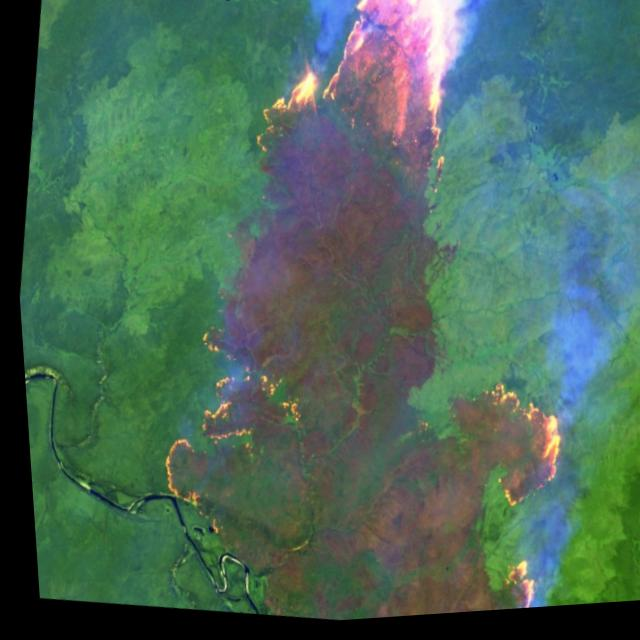fire: (234, 0, 491, 216), (141, 307, 324, 534), (429, 373, 580, 619)
